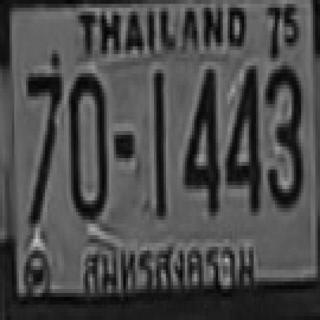N00: (71, 70, 109, 216)
N01: (154, 70, 166, 216)
N03: (263, 62, 301, 204)
N04: (182, 66, 218, 212), (225, 64, 258, 210)
N07: (25, 69, 63, 224)
P59: (77, 235, 263, 304)
